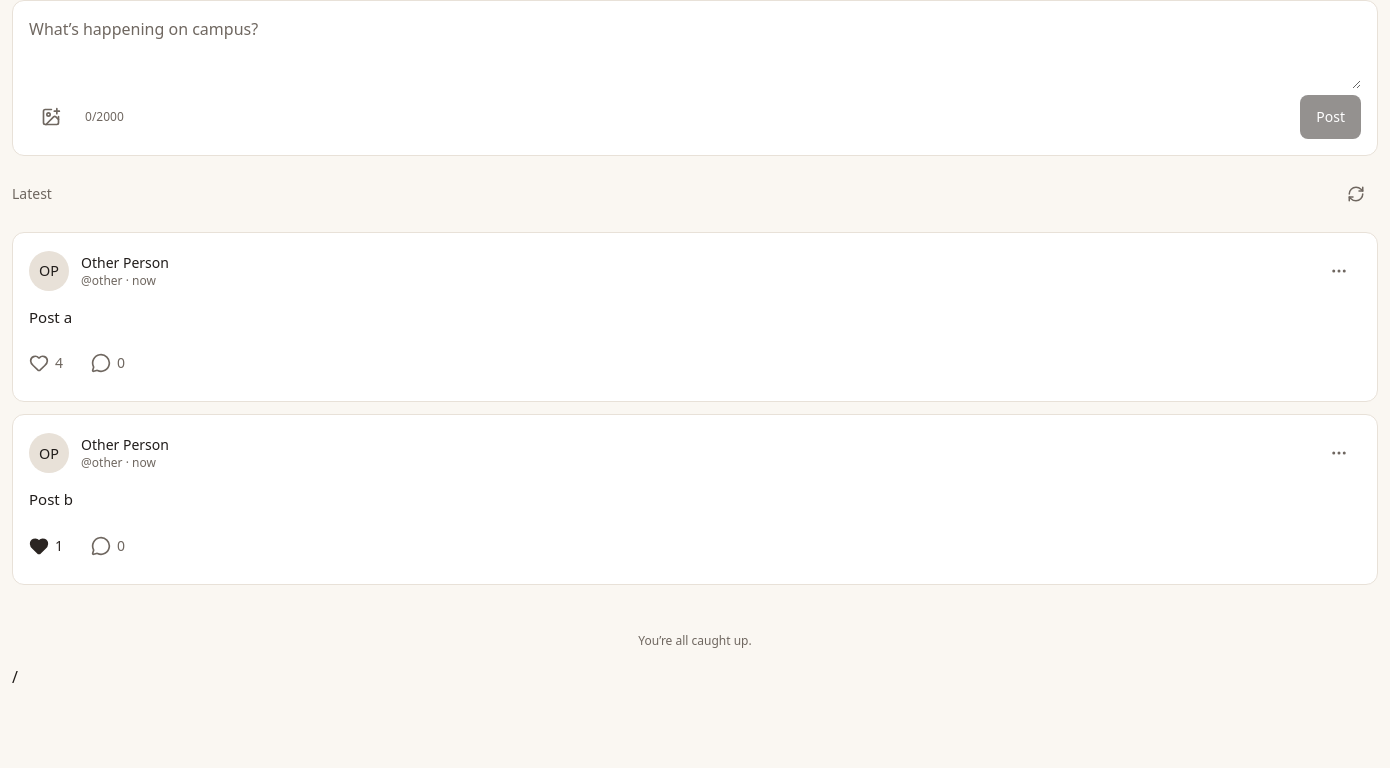
Test: likes › puts the old state back and says so when the call fails
Click the button named "Like (4 likes)".
click(50, 363)  # box [29,341,71,385]
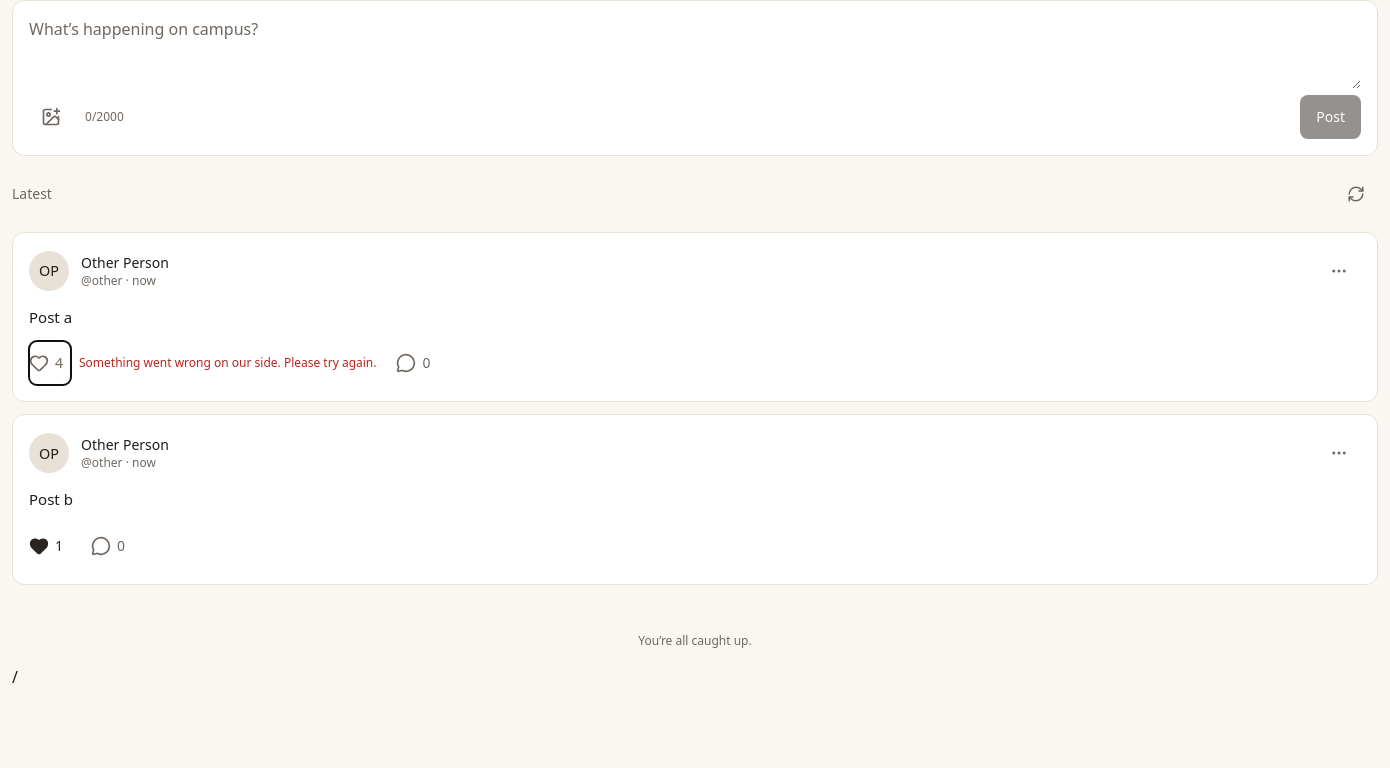
Check: the message shows "went wrong", box [79,354,376,371]
